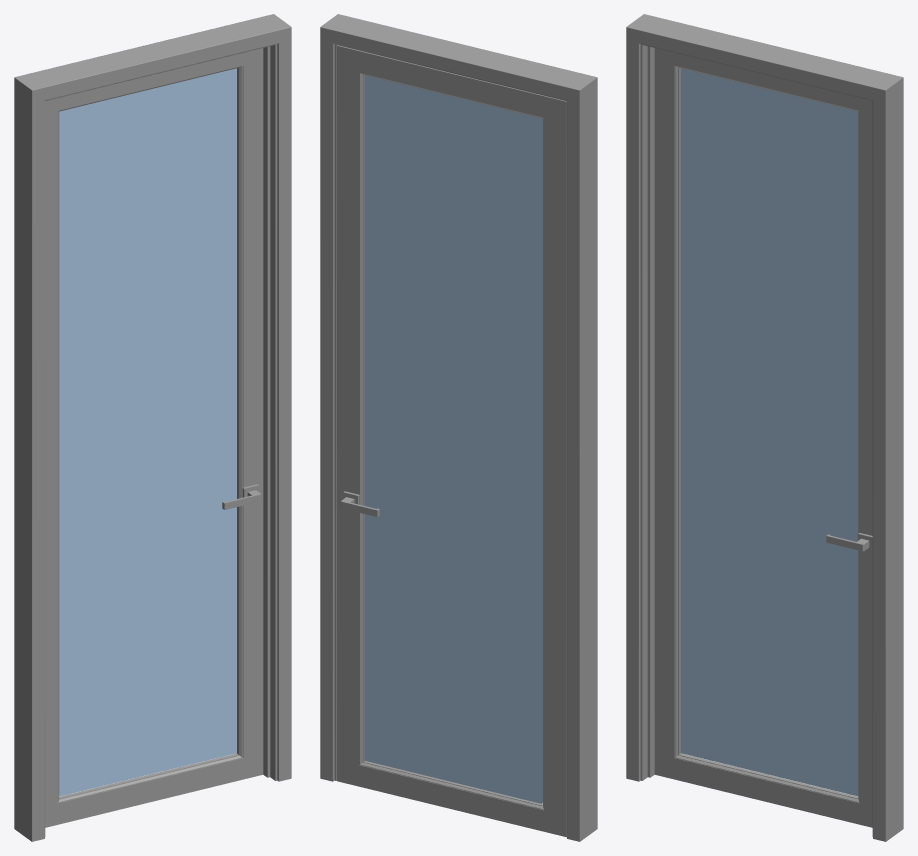
Rendered from Door_Inside.fbx.
The picture shows the model from 3 angles, left to right: view 1: azimuth 30°, elevation 25°; view 2: azimuth 150°, elevation 25°; view 3: azimuth 330°, elevation 25°; orthographic projection.
Parts seen in each view (by area): view 1: polySurface2, Door_Inside, polySurface1; view 2: polySurface1, Door_Inside, polySurface2; view 3: polySurface2, Door_Inside.
Part boxes in pixels (left/top/right/bottom): polySurface2: left=59, top=68, right=236, bottom=796; Door_Inside: left=14, top=14, right=291, bottom=841; polySurface1: left=59, top=112, right=59, bottom=795; polySurface1: left=364, top=75, right=541, bottom=803; Door_Inside: left=320, top=14, right=597, bottom=841; polySurface2: left=542, top=118, right=542, bottom=803; polySurface2: left=681, top=68, right=858, bottom=796; Door_Inside: left=626, top=14, right=903, bottom=841.
Bounding box in the file's own units: 101 × 280 × 16.
